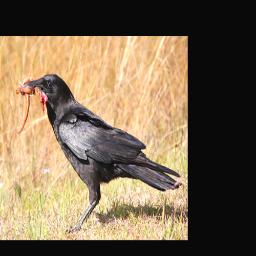Crow: (8, 69, 182, 233)
